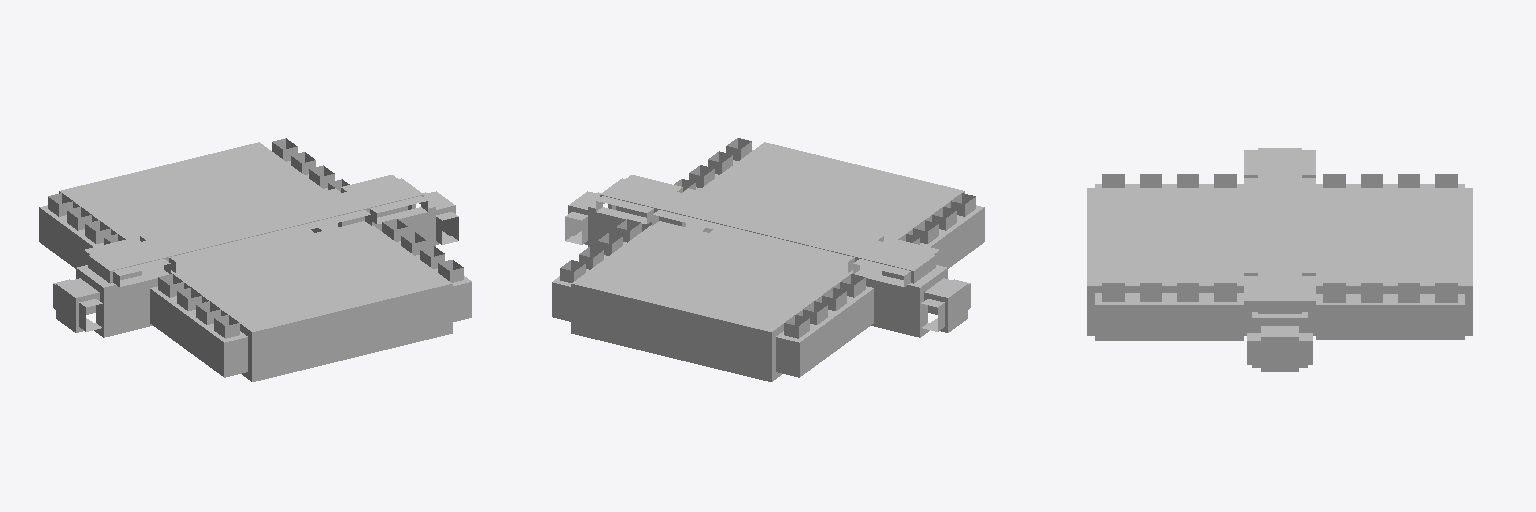
Rendered from hall.obj.
3 views of the same model, side by side, from view 1: azimuth 30°, elevation 25°; view 2: azimuth 150°, elevation 25°; view 3: azimuth 270°, elevation 25° (orthographic).
Visible parts, largest first — view 1: hall_low_Cube; view 2: hall_low_Cube; view 3: hall_low_Cube.
Boxes of the visible parts, box(x1,y1,x2,y2) form: hall_low_Cube: box(39, 138, 471, 381); hall_low_Cube: box(552, 138, 984, 381); hall_low_Cube: box(1087, 148, 1472, 371).
Size of the model in its own units: 31.78 by 5 by 28.